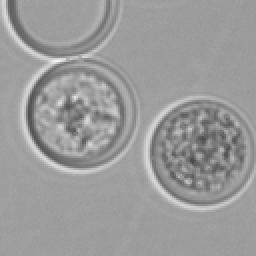picoshell: (20, 58, 136, 172), (2, 0, 122, 60)
